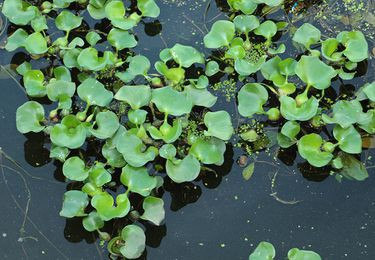water_hyacinth: (0, 0, 375, 260)
